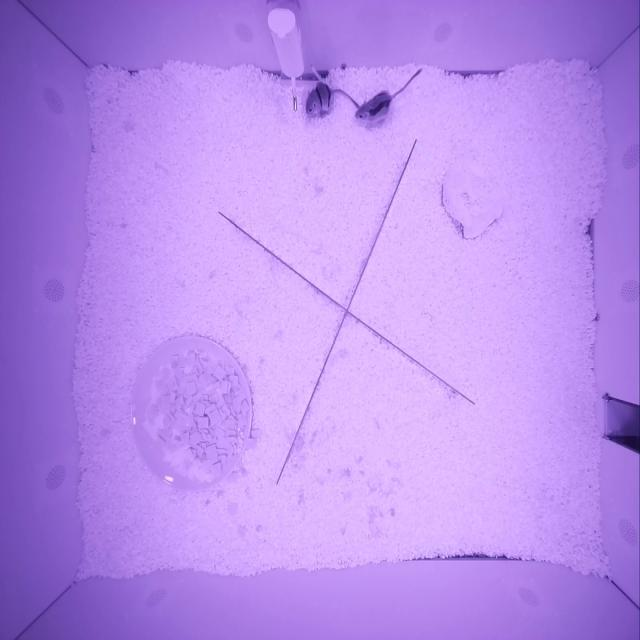pup_h_stripe: (305, 82, 334, 116)
pup_v_stripe: (355, 91, 392, 122)
